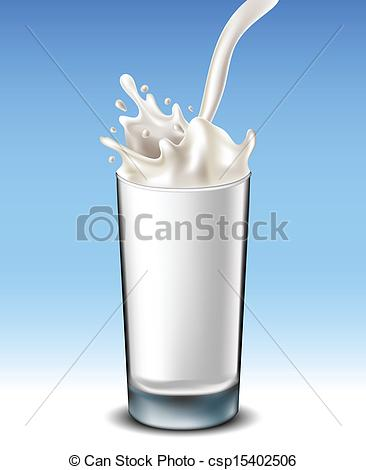glass of milk: (121, 145, 240, 422)
